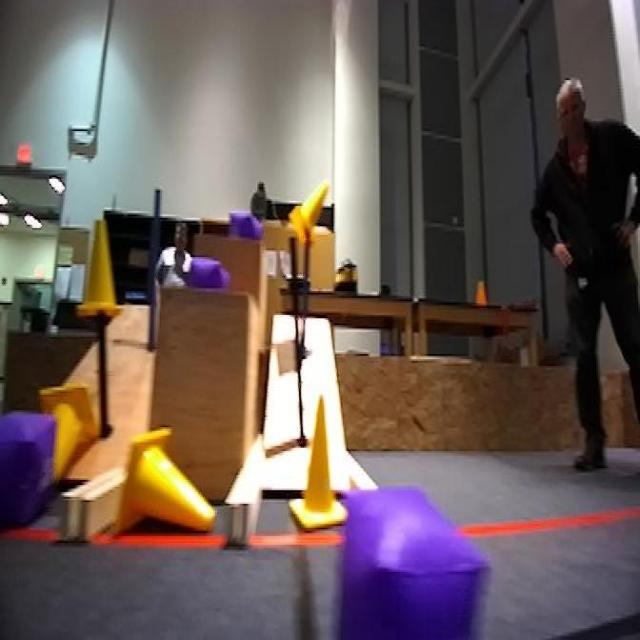frc_cone: (121, 424, 222, 546), (283, 393, 351, 531), (76, 209, 128, 320), (37, 386, 93, 484), (284, 175, 334, 247)
frc_cube: (332, 483, 488, 640), (0, 406, 53, 524), (188, 254, 228, 291), (227, 204, 260, 240)
